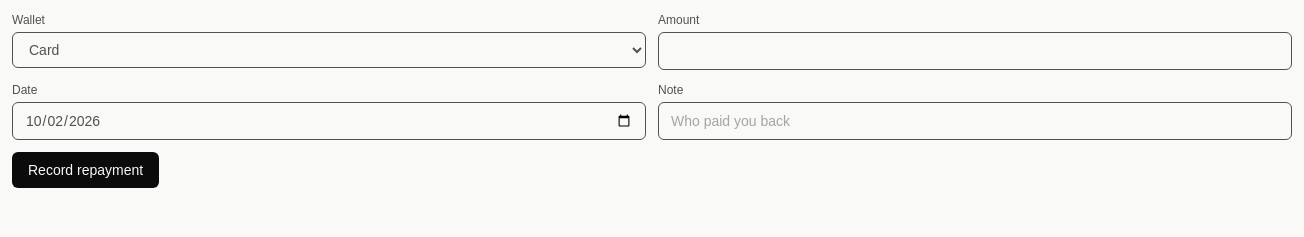
RepaymentForm (create) › shows the action's error and keeps what was typed
Type "5" into the field named "Repayment amount" at (975, 51), box [658,32,1292,70]
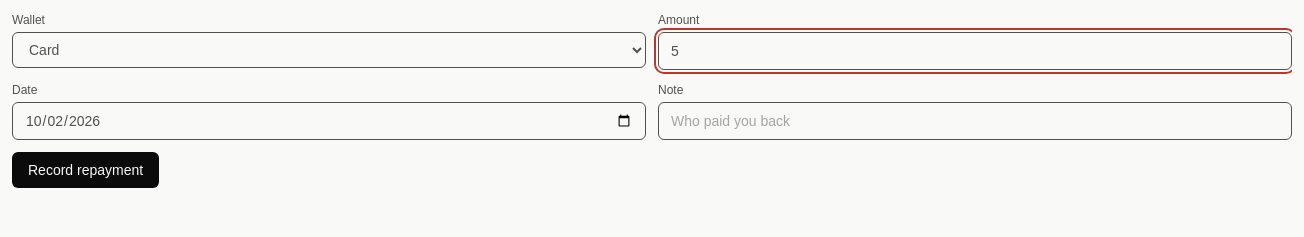
Click the button "Record repayment" at (86, 170), box [12,152,159,188]
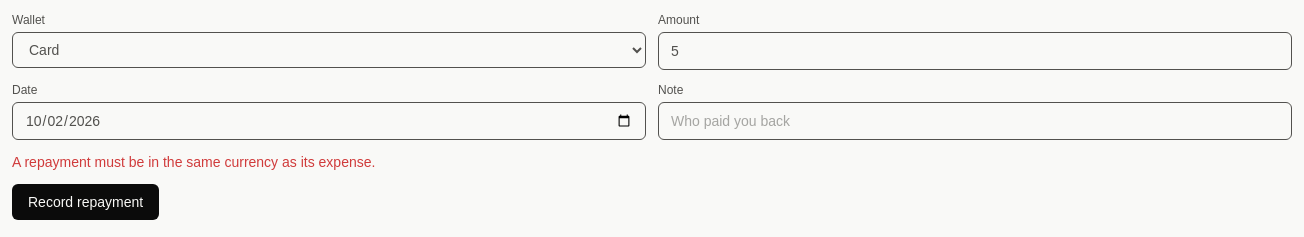
Expected: the message shows "same currency", [12,154,375,170]
